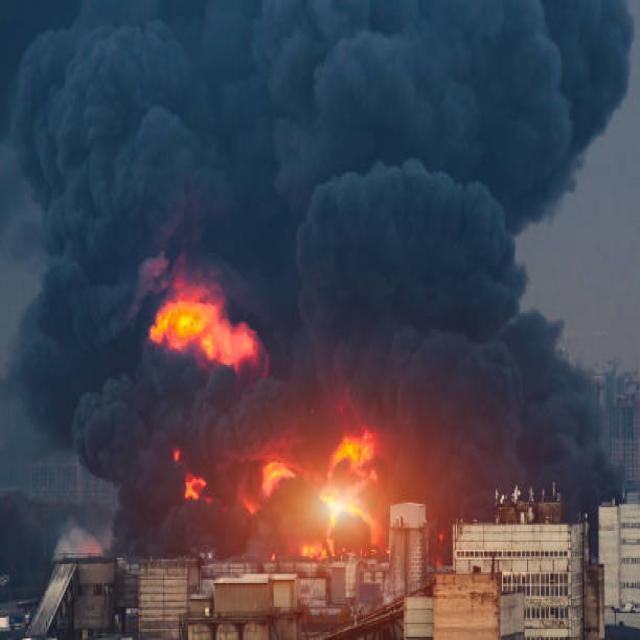Fire: (276, 421, 394, 552), (158, 290, 262, 379), (179, 436, 224, 514)
Smoke: (205, 1, 640, 483), (2, 3, 246, 539)
